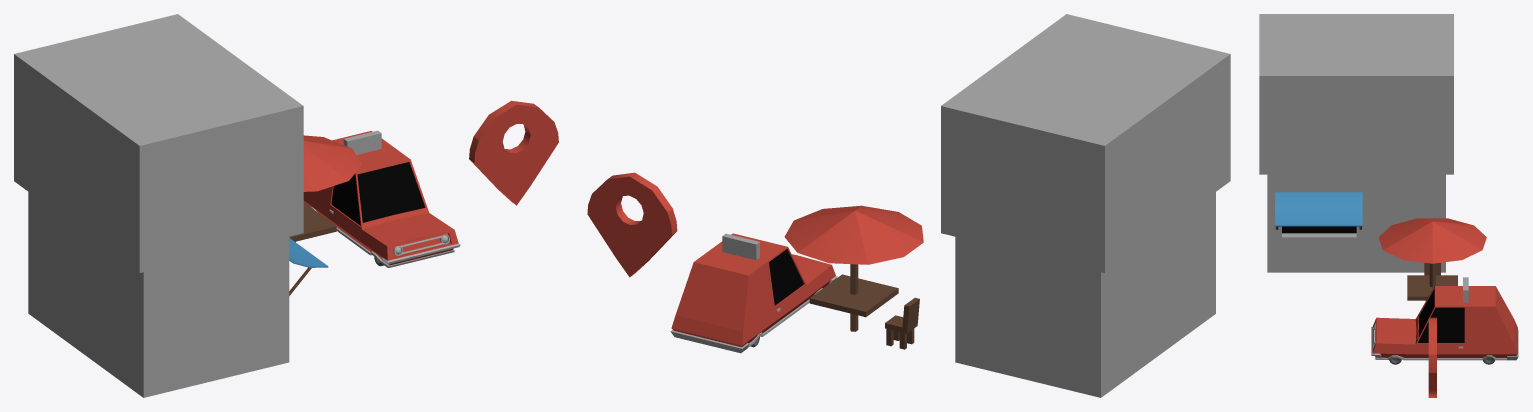
The model's file is mock-ups 1.fbx.
3 views of the same model, side by side, from view 1: azimuth 30°, elevation 25°; view 2: azimuth 150°, elevation 25°; view 3: azimuth 270°, elevation 25° (orthographic). The views are drawn at different scales.
Visible parts, largest first — view 1: resturant, Car2, waypoint, ubrellad; view 2: resturant, Car2, ubrellad, waypoint, chair; view 3: resturant, Car2, ubrellad, waypoint.
Boxes of the visible parts, x1,y1,x2,y2 form: resturant: (14, 14, 328, 397); Car2: (303, 130, 460, 267); waypoint: (469, 100, 558, 205); ubrellad: (289, 135, 361, 242); resturant: (941, 14, 1230, 397); Car2: (670, 233, 837, 353); ubrellad: (784, 205, 923, 331); waypoint: (587, 172, 677, 277); chair: (885, 297, 919, 349); resturant: (1259, 14, 1453, 272); Car2: (1371, 277, 1518, 364); ubrellad: (1378, 218, 1486, 300); waypoint: (1428, 317, 1436, 397).
Size of the model in its own units: 1239 by 591 by 680.
